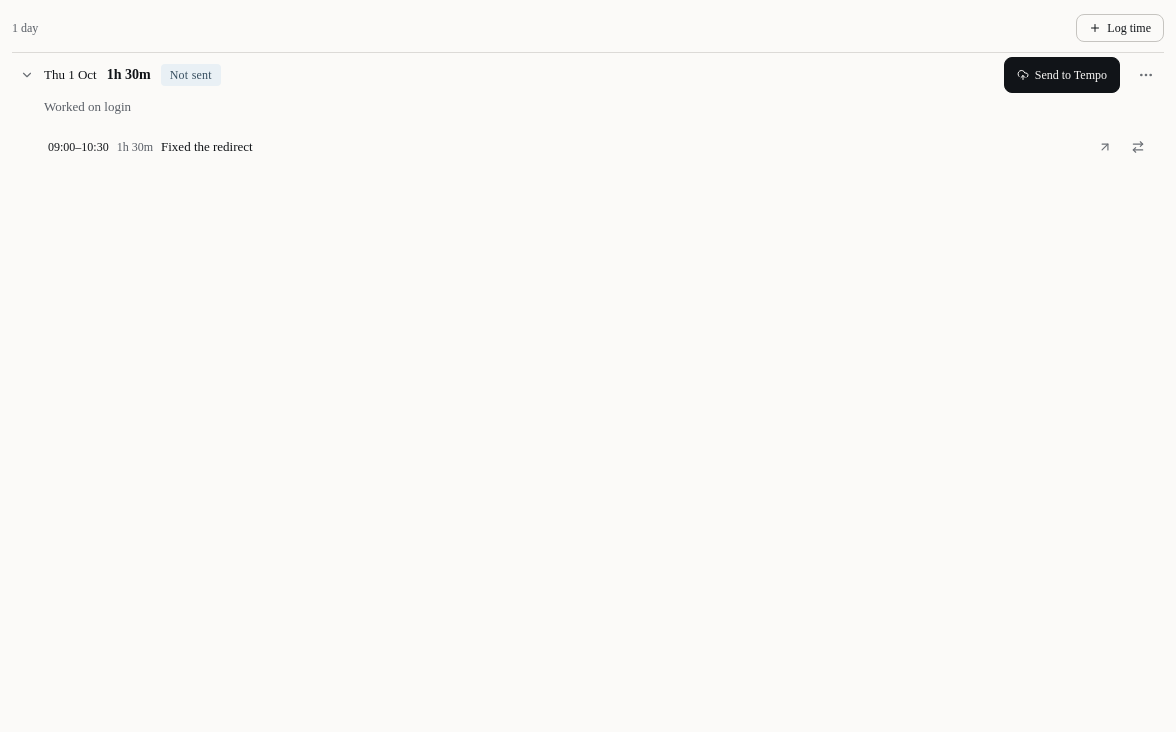
Test: log form › validates length and description on blur
Click the button "Log time": {"x": 1120, "y": 28} [1076,14,1164,42]
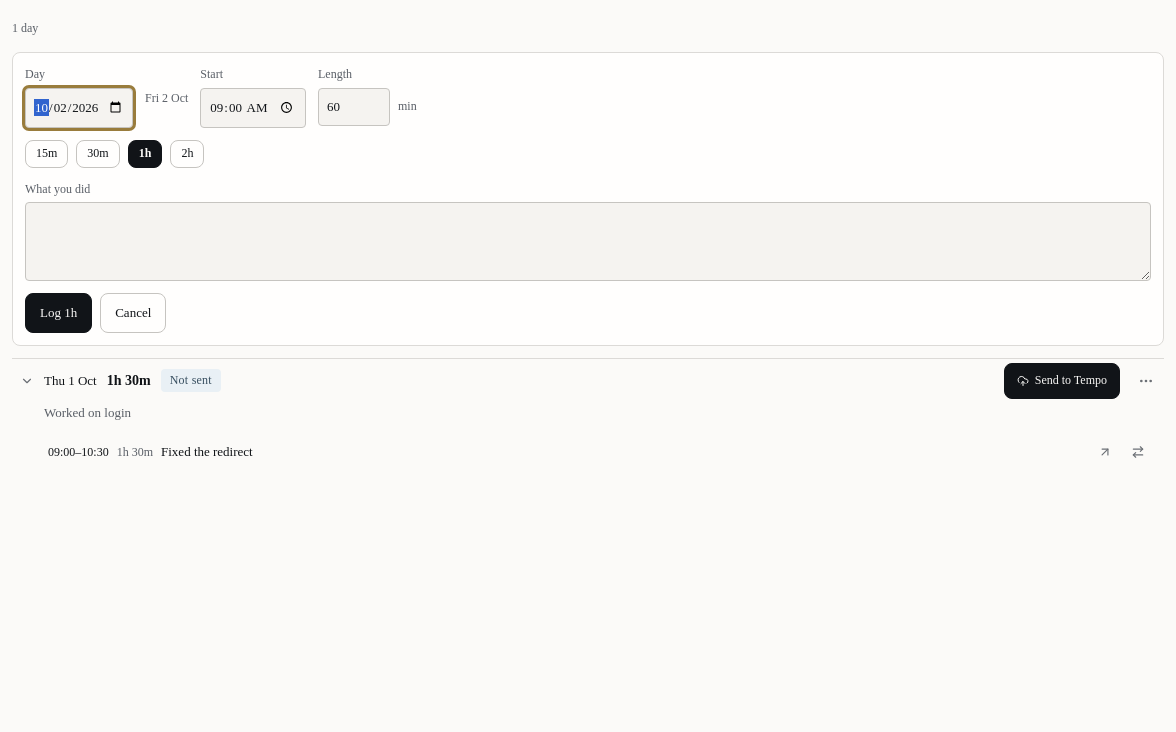
Leave the text box labelled "What you did", box [25,202,1151,281]
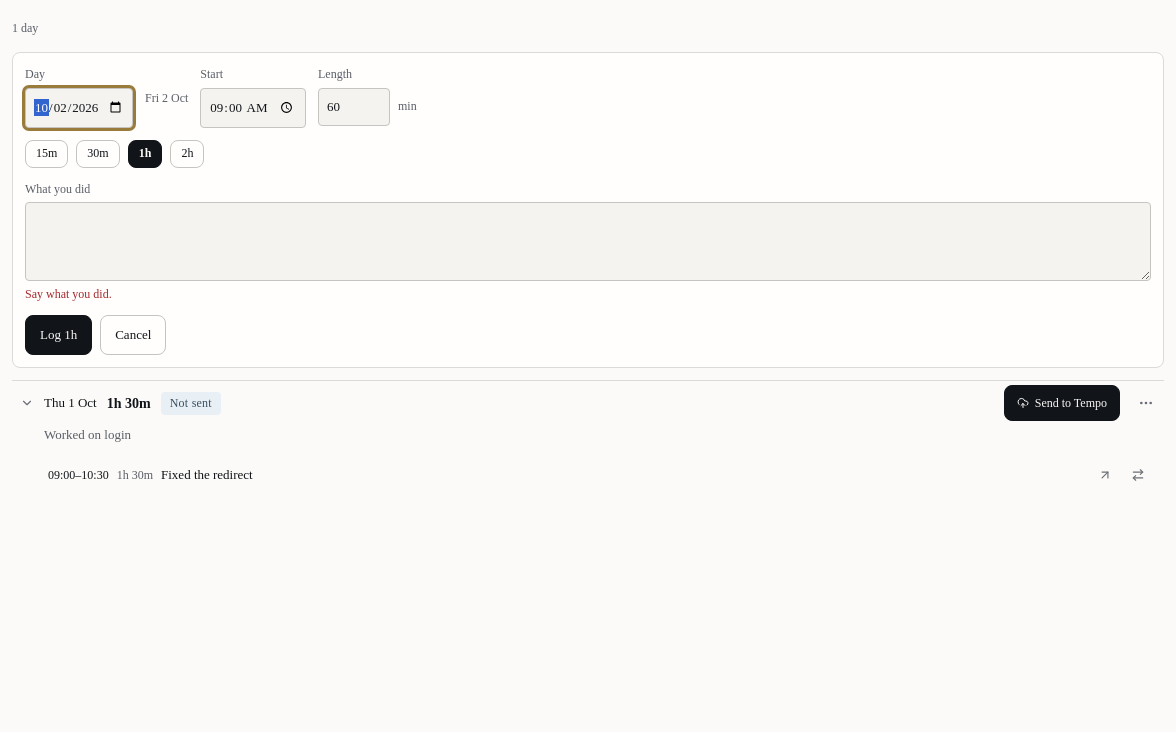
Result: the text "Say what you did." is shown at [25,287,112,301]
Replace the text in the number field labelled "Length" with "721": {"x": 354, "y": 107} [318,88,390,126]
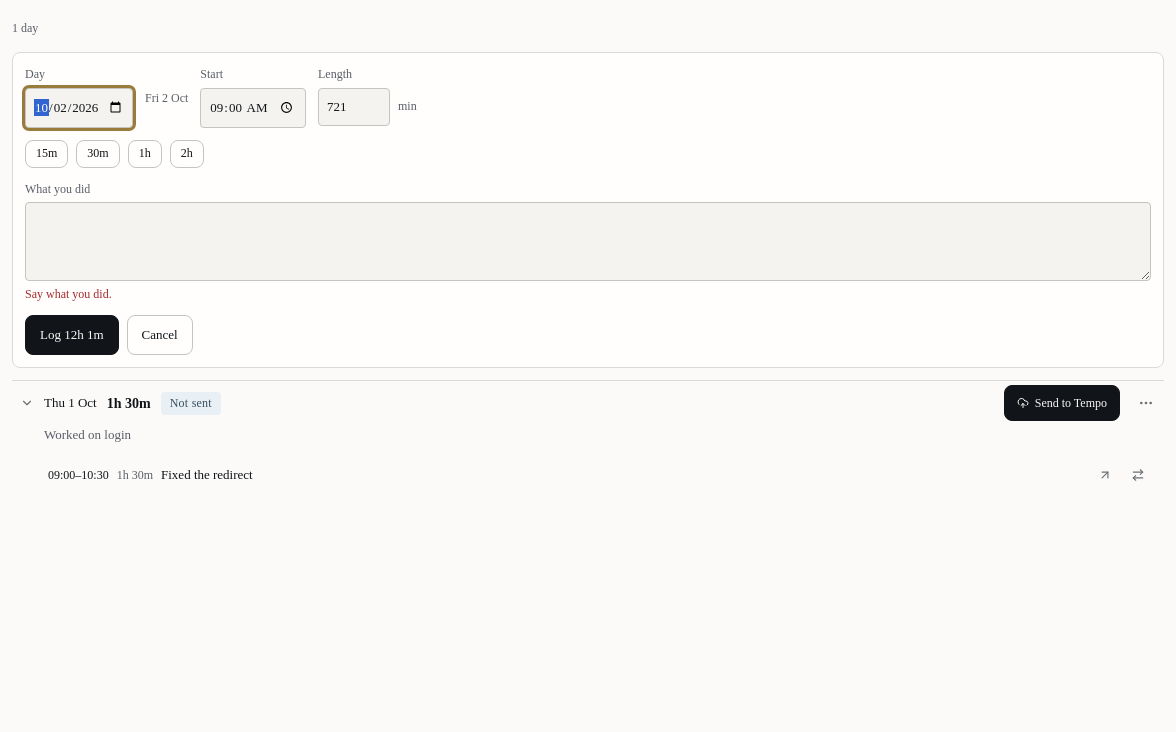
Leave the number field labelled "Length", box [318,88,390,126]
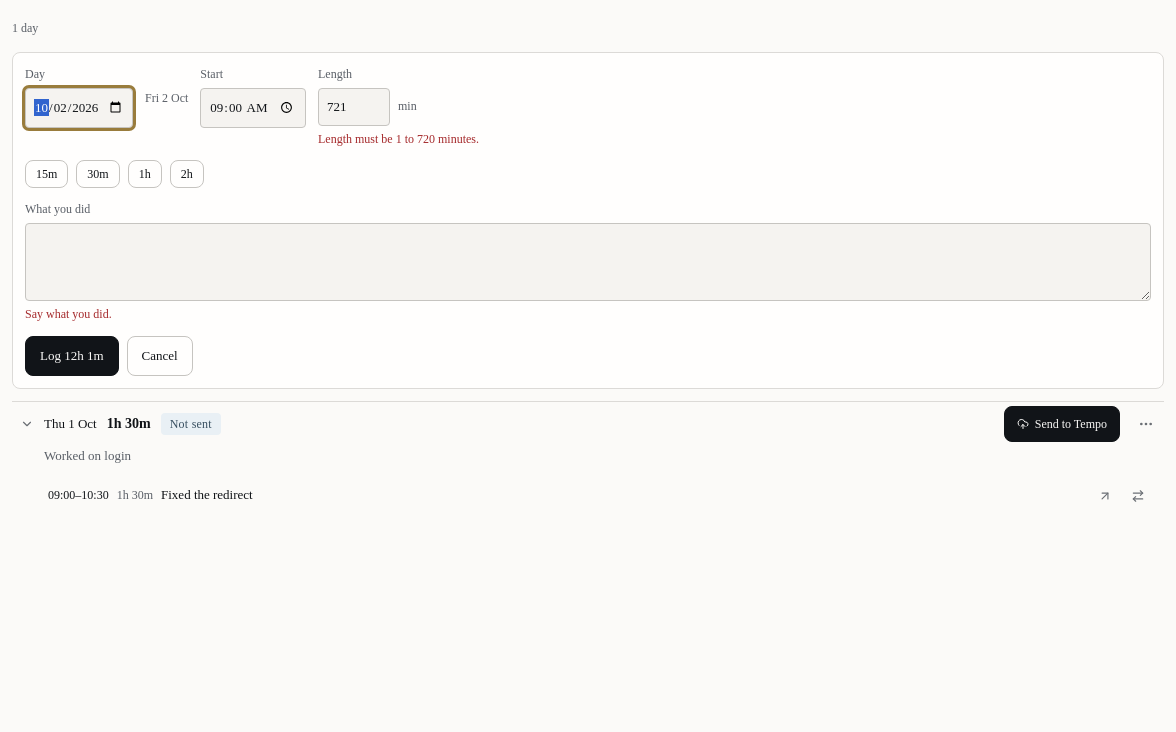
Result: the text "Length must be 1 to 720 minutes." is shown at [318,130,479,148]
In the text box labelled "What you did": {"x": 588, "y": 262} [25,223,1151,301], type "x"
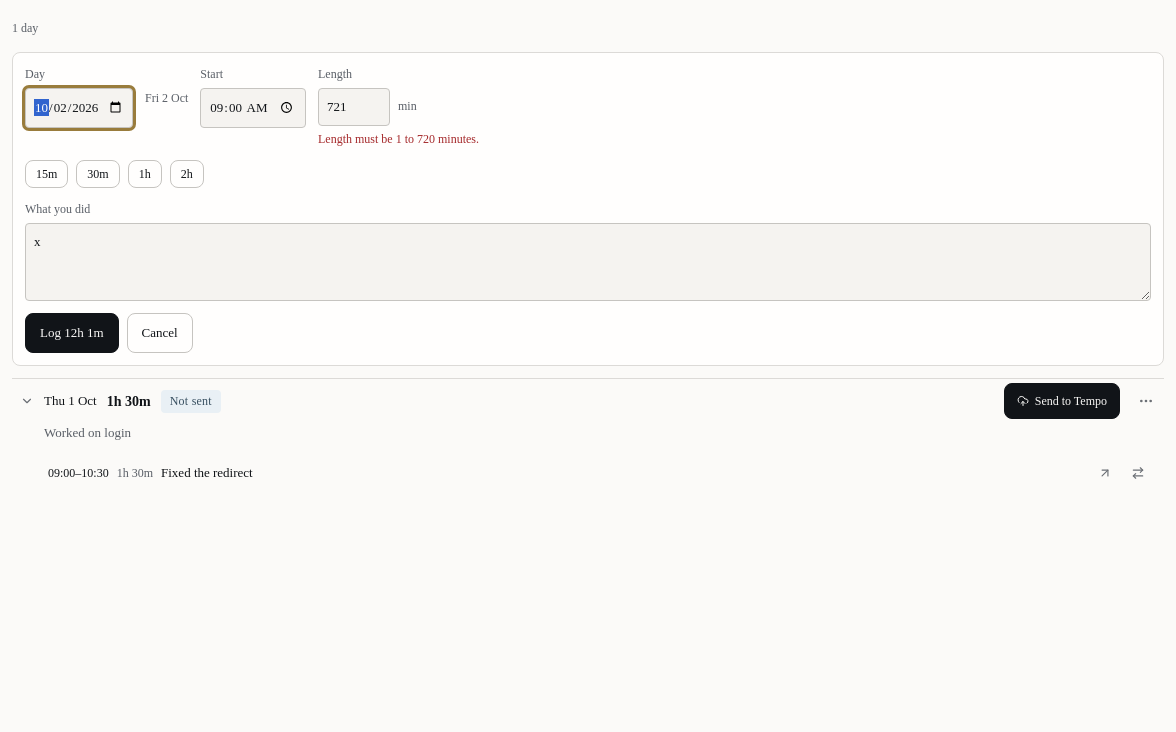
Result: the text "Say what you did." is gone
